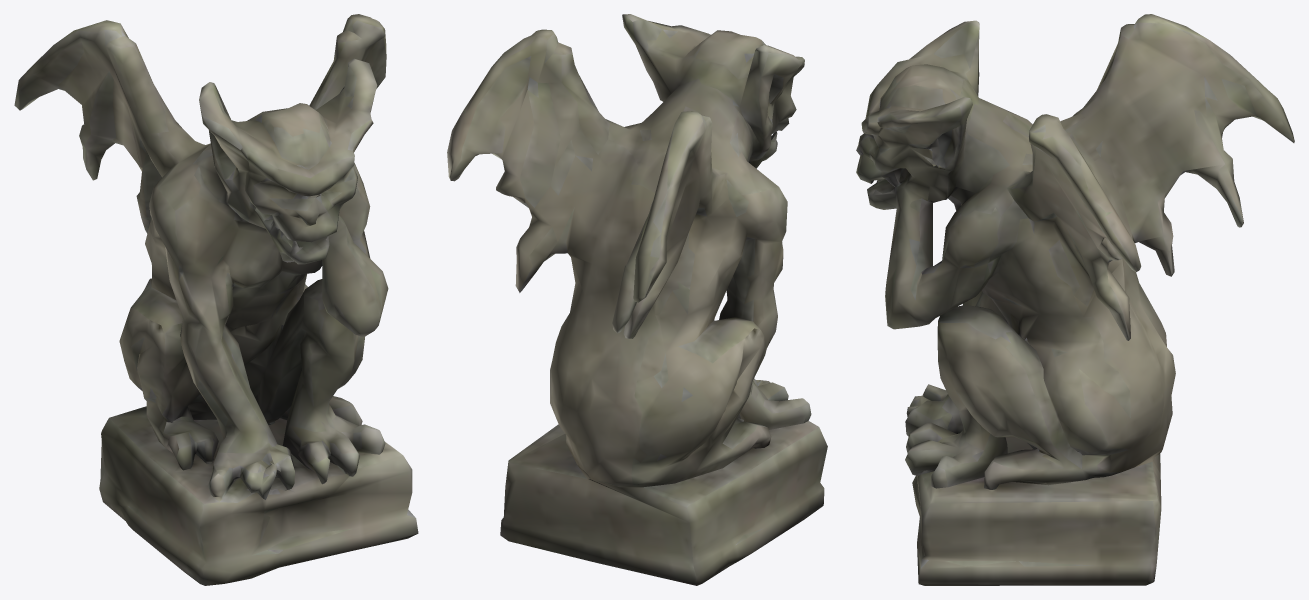
File: plain-limestone-gargoyle-v001.glb
3 renders of one model, left to right at view 1: azimuth 30°, elevation 25°; view 2: azimuth 150°, elevation 25°; view 3: azimuth 270°, elevation 25°, orthographic.
Visible parts, largest first — view 1: plain-limestone-gargoyle; view 2: plain-limestone-gargoyle; view 3: plain-limestone-gargoyle.
Boxes of the visible parts, left/top/right/bottom form: plain-limestone-gargoyle: left=14, top=14, right=418, bottom=585; plain-limestone-gargoyle: left=447, top=14, right=827, bottom=585; plain-limestone-gargoyle: left=856, top=14, right=1294, bottom=585.
Size of the model in its own units: 0.4383 by 0.6893 by 0.5694.
1 material, 1 textured.
